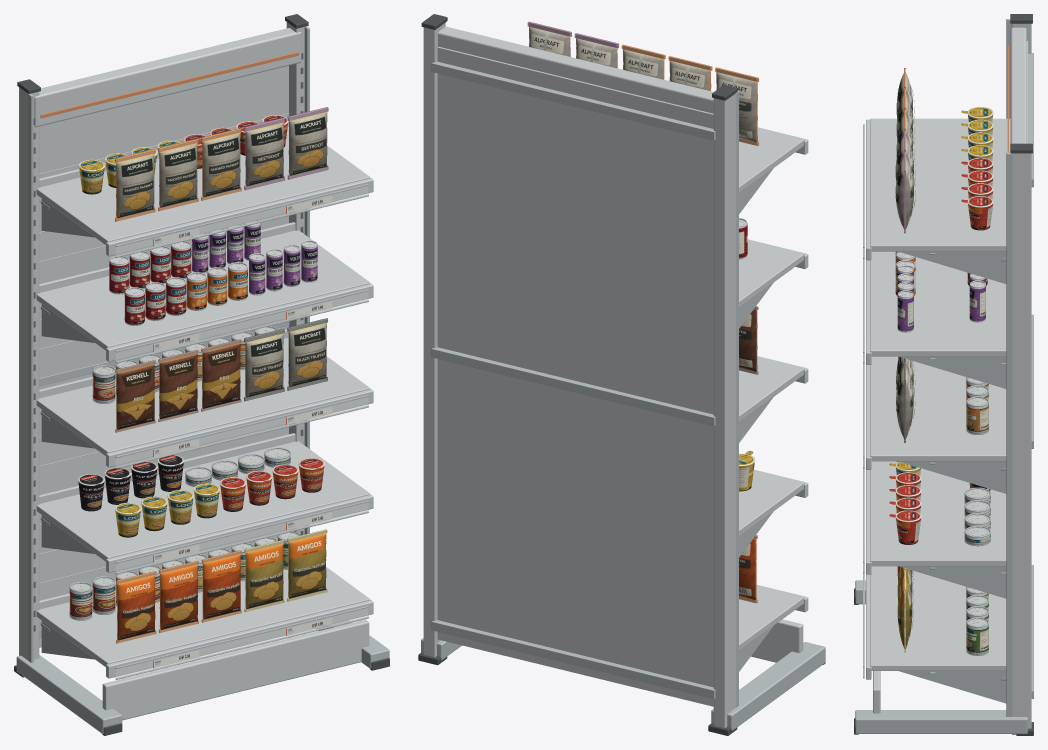
Rendered from Swiss_Supermarket_Shelf_1m_Stocked.glb.
The picture shows the model from 3 angles, left to right: view 1: azimuth 30°, elevation 25°; view 2: azimuth 150°, elevation 25°; view 3: azimuth 270°, elevation 25°; orthographic projection. The views are drawn at different scales.
Visible parts, largest first — view 1: White enamel steel back panel | BAY 1, Lower steel kick-panel | BAY 1, Folded 1m load tray | LEVEL 2 | BAY 1, Folded 1m load tray | LEVEL 4 | BAY 1, Top finishing header | BAY 1, Folded 1m load tray | LEVEL 3 | BAY 1, Folded 1m load tray | LEVEL 5 | BAY 1, C-SHAPED STEEL REAR UPRIGHT | BAY 1.001, Folded 1m load tray | LEVEL 1 | BAY 1, Upright return fold | BAY 1, Rolled front metal shelf-edge | LEVEL 2 | BAY 1, Rolled front metal shelf-edge | LEVEL 1 | BAY 1 (+79 smaller); view 2: White enamel steel back panel | BAY 1, C-SHAPED STEEL REAR UPRIGHT | BAY 1.001, C-SHAPED STEEL REAR UPRIGHT | BAY 1, Top finishing header | BAY 1, Rear galvanised cross brace | BAY 1.002, Rear galvanised cross brace | BAY 1, Rear galvanised cross brace | BAY 1.001, Outrigger anti-tip foot | BAY 1, Upright return fold | BAY 1, Folded 1m load tray | LEVEL 4 | BAY 1, Folded 1m load tray | LEVEL 2 | BAY 1, Folded 1m load tray | LEVEL 1 | BAY 1 (+10 smaller); view 3: Folded 1m load tray | LEVEL 5 | BAY 1, C-SHAPED STEEL REAR UPRIGHT | BAY 1, Folded 1m load tray | LEVEL 4 | BAY 1, Folded 1m load tray | LEVEL 3 | BAY 1, Folded 1m load tray | LEVEL 1 | BAY 1, Folded 1m load tray | LEVEL 2 | BAY 1, Outrigger anti-tip foot | BAY 1.001, Upright return fold | BAY 1.001, Top finishing header | BAY 1, Pressed triangular support bracket | LEVEL 5 | BAY 1.001, Pressed triangular support bracket | LEVEL 4 | BAY 1.001, Pressed triangular support bracket | LEVEL 3 | BAY 1.001 (+40 smaller).
Part boxes in pixels (x1,y1,x2,y2): White enamel steel back panel | BAY 1: (39, 65, 288, 647); Lower steel kick-panel | BAY 1: (102, 619, 369, 720); Folded 1m load tray | LEVEL 2 | BAY 1: (36, 441, 370, 561); Folded 1m load tray | LEVEL 4 | BAY 1: (36, 230, 370, 350); Top finishing header | BAY 1: (34, 28, 301, 127); Folded 1m load tray | LEVEL 3 | BAY 1: (36, 337, 370, 455); Folded 1m load tray | LEVEL 5 | BAY 1: (36, 126, 370, 244); C-SHAPED STEEL REAR UPRIGHT | BAY 1.001: (19, 87, 39, 660); Folded 1m load tray | LEVEL 1 | BAY 1: (36, 567, 370, 666); Upright return fold | BAY 1: (28, 94, 33, 662); Rolled front metal shelf-edge | LEVEL 2 | BAY 1: (106, 494, 373, 572); Rolled front metal shelf-edge | LEVEL 1 | BAY 1: (106, 600, 373, 678); White enamel steel back panel | BAY 1: (437, 46, 713, 706); C-SHAPED STEEL REAR UPRIGHT | BAY 1.001: (713, 93, 735, 727); C-SHAPED STEEL REAR UPRIGHT | BAY 1: (423, 22, 445, 657); Top finishing header | BAY 1: (438, 26, 713, 113); Rear galvanised cross brace | BAY 1.002: (431, 61, 715, 140); Rear galvanised cross brace | BAY 1: (431, 619, 715, 698); Rear galvanised cross brace | BAY 1.001: (431, 347, 715, 426); Outrigger anti-tip foot | BAY 1: (711, 642, 825, 730); Upright return fold | BAY 1: (735, 91, 738, 707); Folded 1m load tray | LEVEL 4 | BAY 1: (739, 240, 804, 307); Folded 1m load tray | LEVEL 2 | BAY 1: (739, 470, 804, 536); Folded 1m load tray | LEVEL 1 | BAY 1: (739, 585, 804, 650); Folded 1m load tray | LEVEL 5 | BAY 1: (870, 118, 1010, 251); C-SHAPED STEEL REAR UPRIGHT | BAY 1: (1012, 153, 1031, 734); Folded 1m load tray | LEVEL 4 | BAY 1: (870, 251, 1006, 356); Folded 1m load tray | LEVEL 3 | BAY 1: (870, 356, 1006, 461); Folded 1m load tray | LEVEL 1 | BAY 1: (870, 566, 1006, 670); Folded 1m load tray | LEVEL 2 | BAY 1: (870, 461, 1006, 566); Outrigger anti-tip foot | BAY 1.001: (855, 710, 1027, 733); Upright return fold | BAY 1.001: (1006, 152, 1012, 716); Top finishing header | BAY 1: (1010, 26, 1026, 143); Pressed triangular support bracket | LEVEL 5 | BAY 1.001: (899, 251, 1006, 283); Pressed triangular support bracket | LEVEL 4 | BAY 1.001: (899, 356, 1006, 388); Pressed triangular support bracket | LEVEL 3 | BAY 1.001: (899, 461, 1006, 493).
Size of the model in its own units: 1.08 by 2.12 by 0.589.
90 materials, 28 textured.
